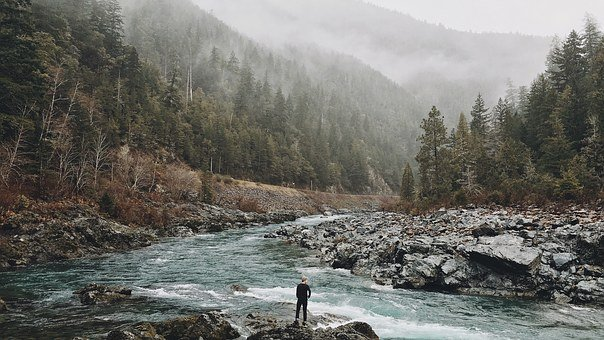forest: (7, 4, 407, 222), (279, 27, 604, 216)
stone: (301, 200, 596, 297)
